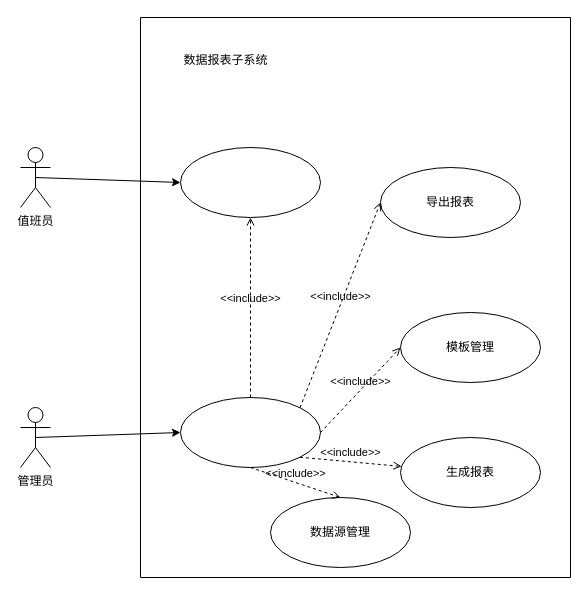
Image size: 588x595. Some labels were removed from this diagram. Here are the shapes that lost their labels. From the top down, the centre of each, then its label:
(250,182): 报表查看
(250,432): 报表管理
